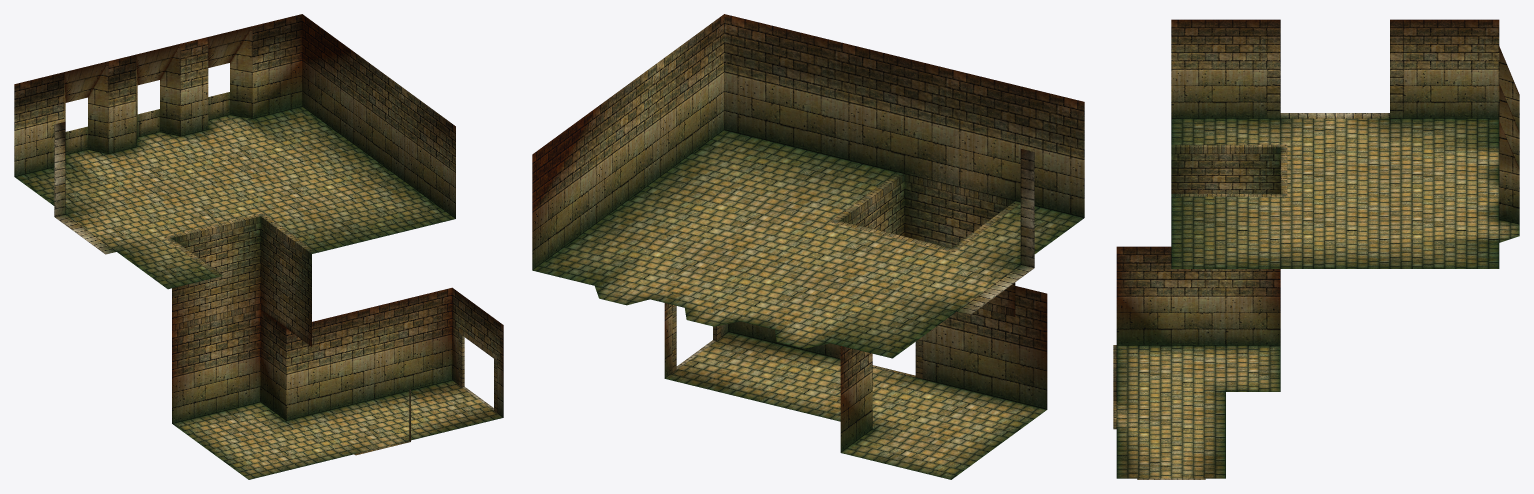
The model's file is MISSION12_INTERIORROOMS04.glb.
3 renders of one model, left to right at view 1: azimuth 30°, elevation 25°; view 2: azimuth 150°, elevation 25°; view 3: azimuth 270°, elevation 25°, orthographic. The views are drawn at different scales.
Visible parts, largest first — view 1: MISSION12_INTERIORROOMS04; view 2: MISSION12_INTERIORROOMS04; view 3: MISSION12_INTERIORROOMS04.
Boxes of the visible parts, x1=… form: MISSION12_INTERIORROOMS04: x1=14, y1=14, x2=503, y2=479; MISSION12_INTERIORROOMS04: x1=532, y1=14, x2=1084, y2=479; MISSION12_INTERIORROOMS04: x1=1113, y1=19, x2=1519, y2=479.
Size of the model in its own units: 14.62 by 12 by 14.88.
7 materials, 7 textured.
